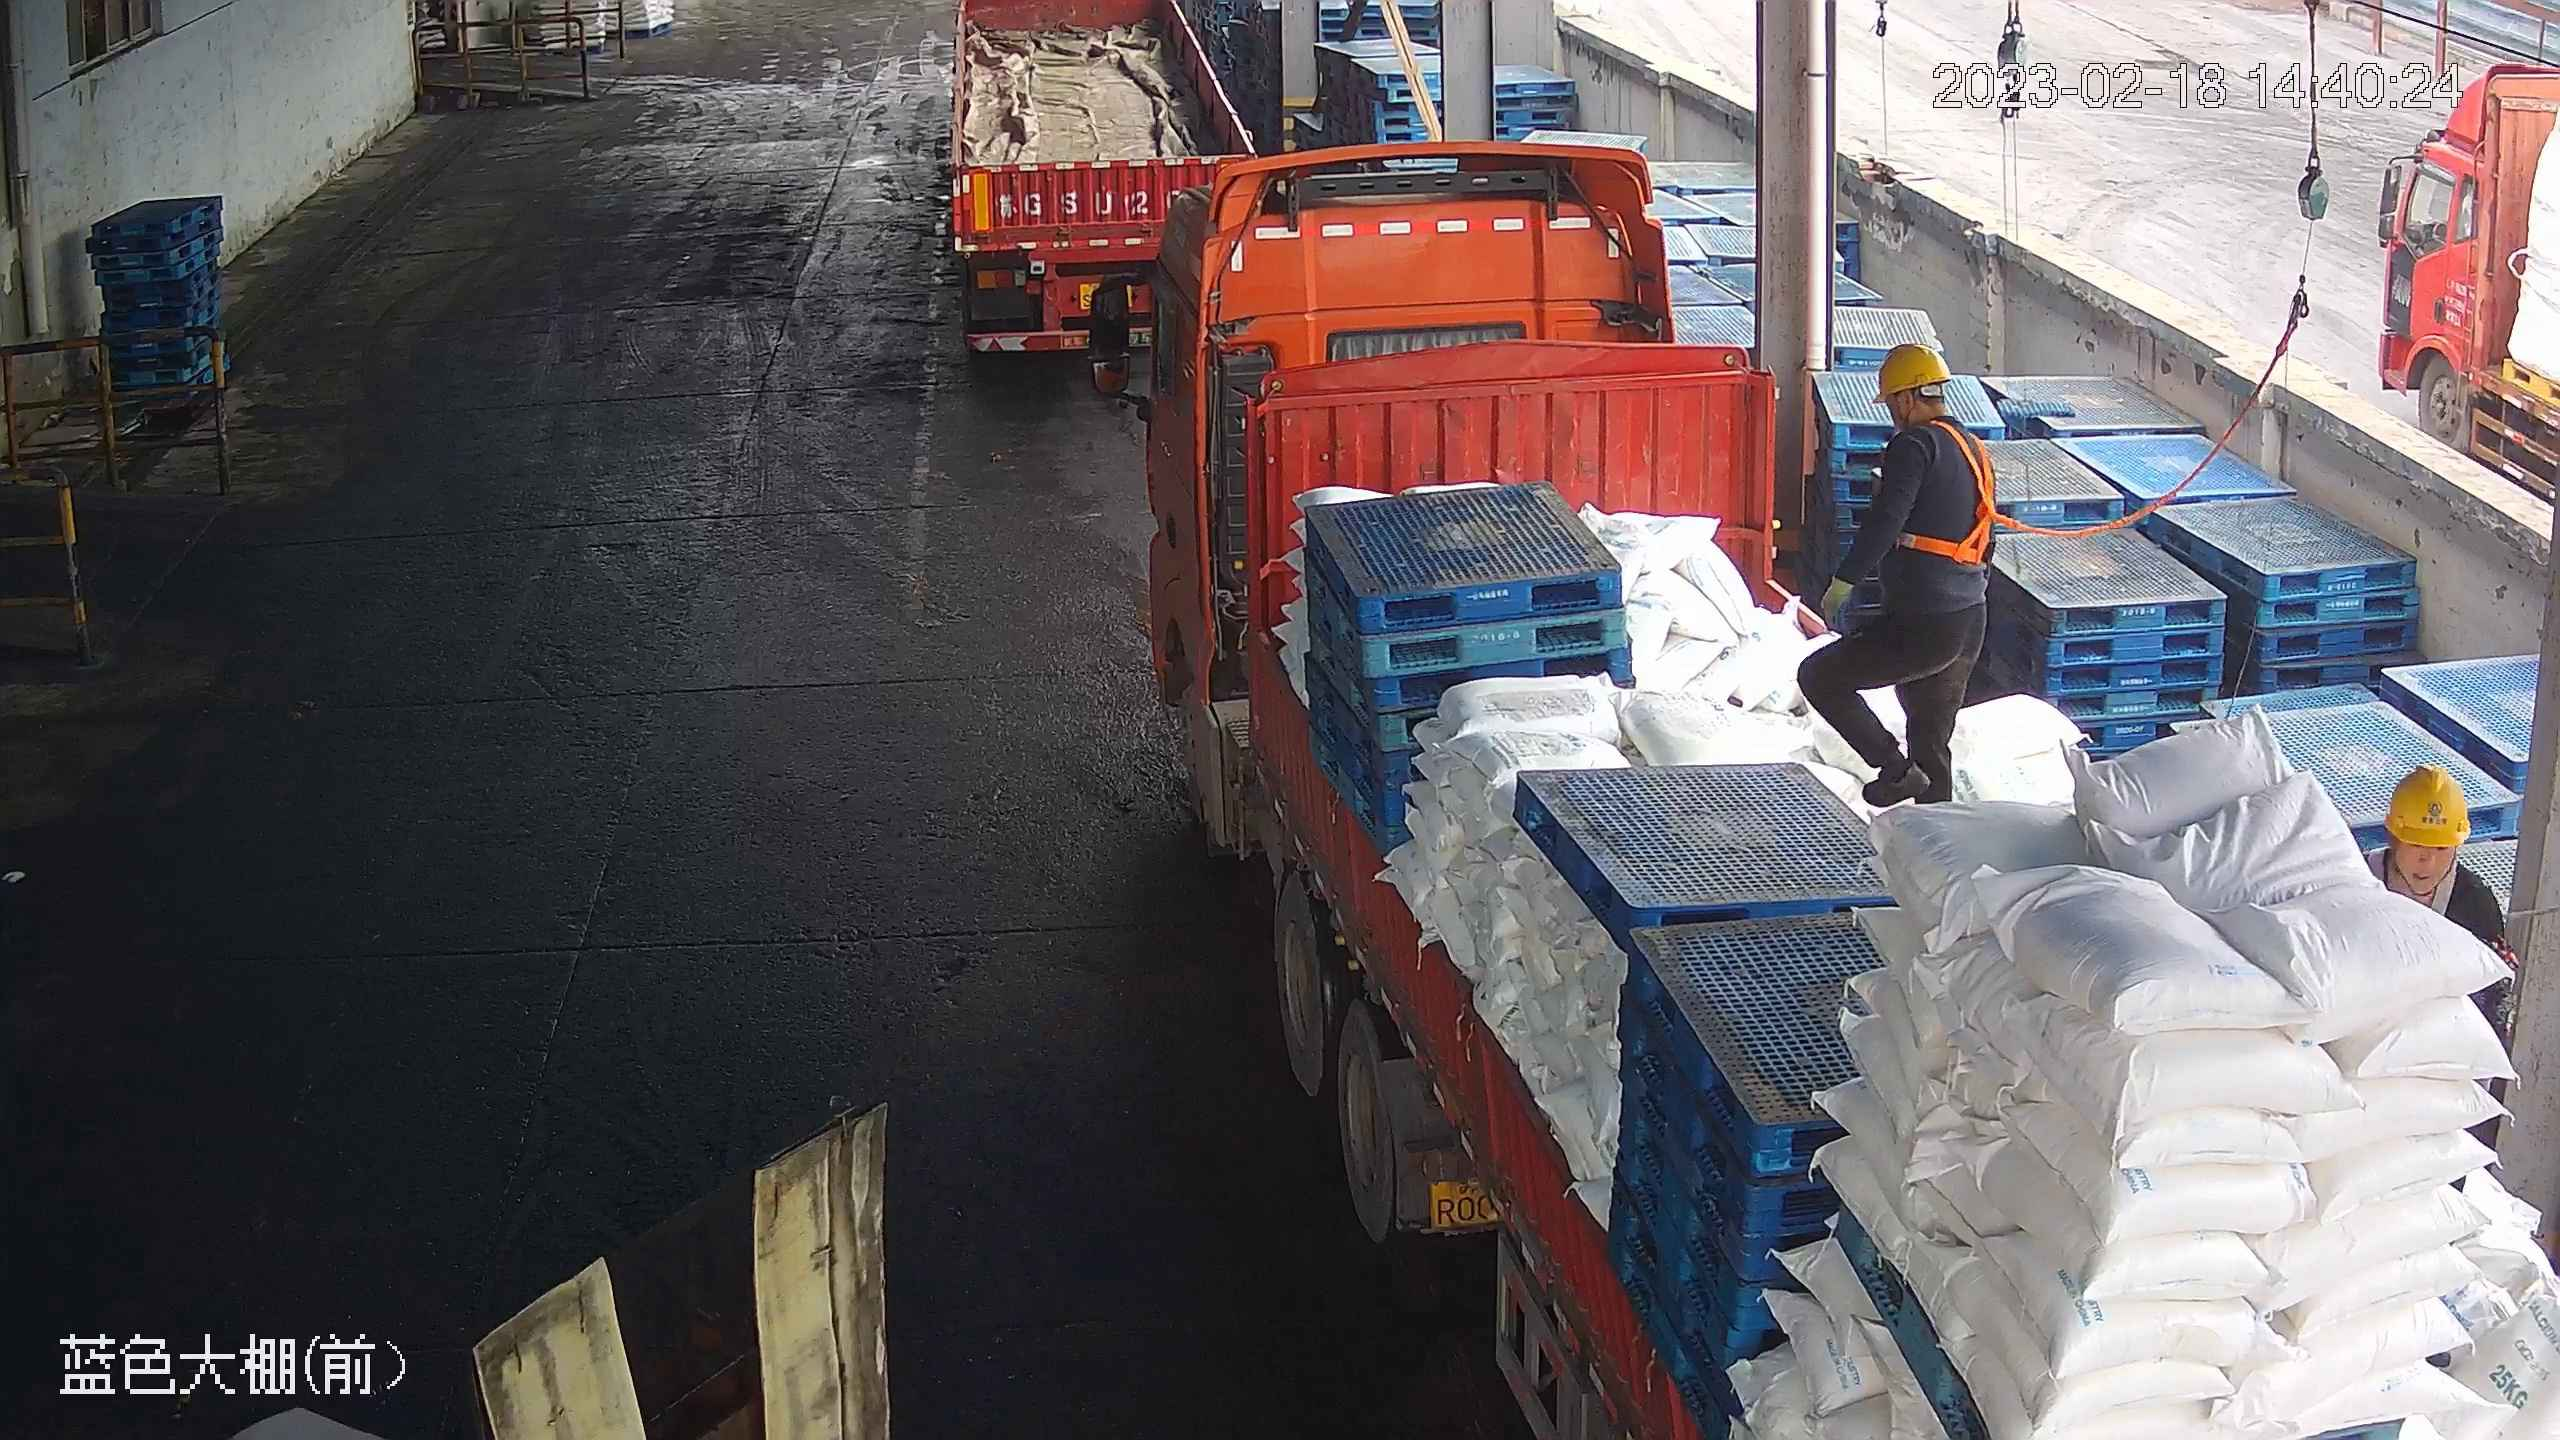belt: (1895, 416, 2015, 570), (2384, 847, 2479, 918)
head: (1862, 338, 1995, 488)
helmet: (2383, 760, 2472, 847), (1870, 338, 1952, 400)
people: (1794, 334, 1995, 815)
truck: (1133, 149, 2556, 1437), (933, 1, 1266, 360)
